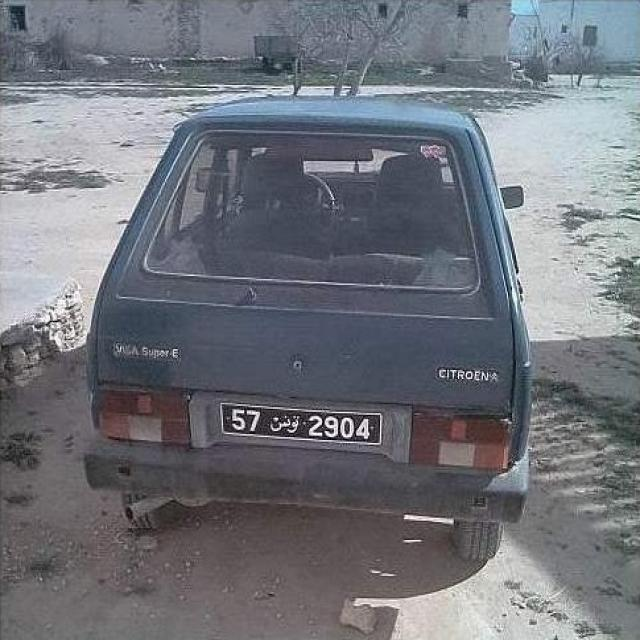licence plate: (223, 406, 380, 442)
